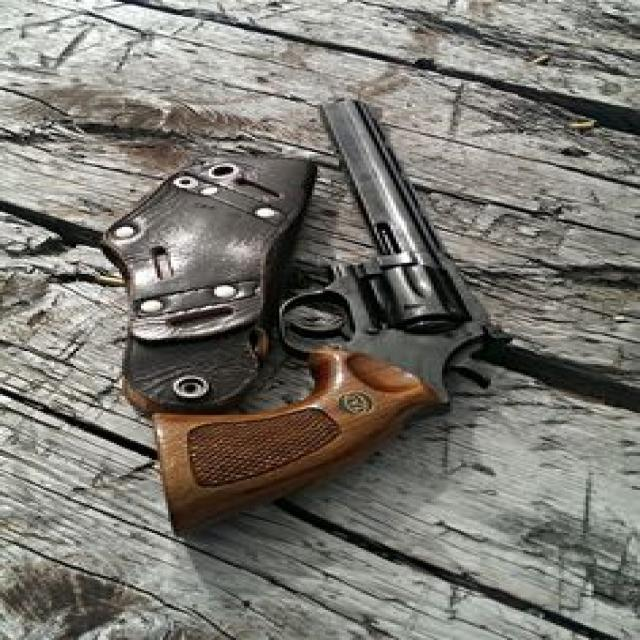revolver: (66, 84, 598, 566)
